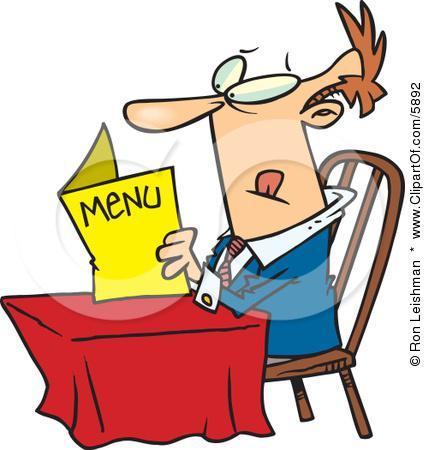chair: (255, 151, 414, 437)
diningtable: (1, 291, 277, 447)
person: (112, 3, 394, 367)
